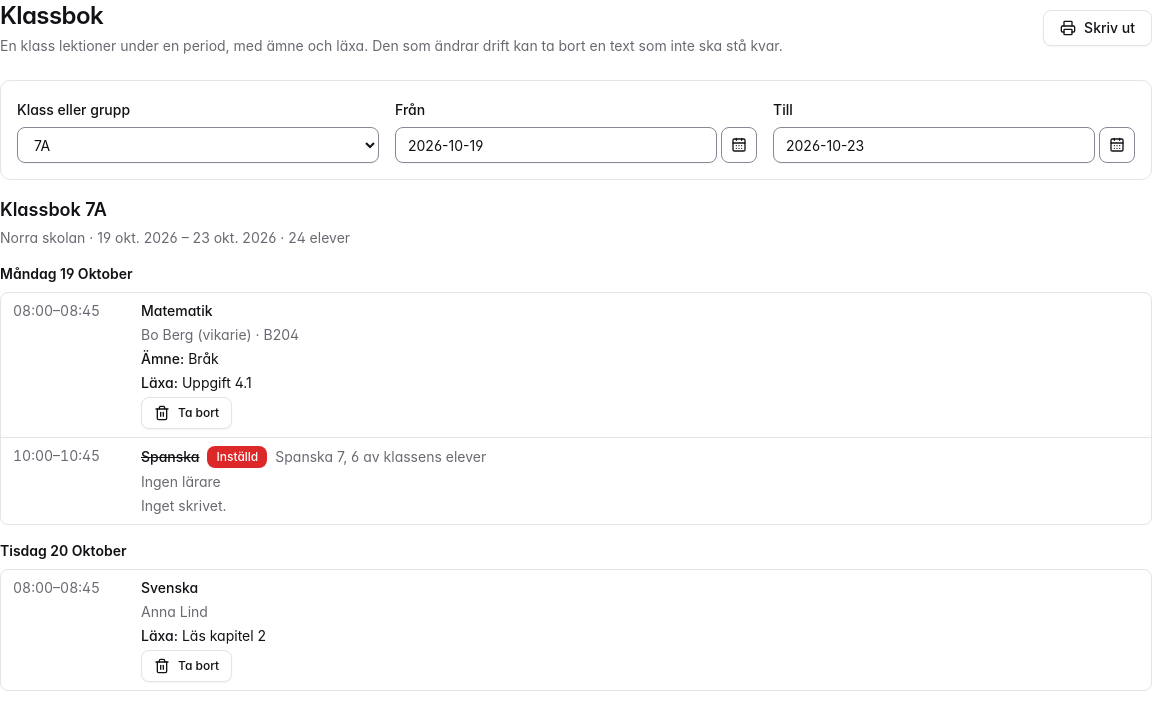
Test: the klassbok › removes nothing the teacher rewrote since, says so and reads the klassbok in again
Click the button with aria-label "Ta bort ämne och läxa för Matematik 08:00": (187, 413) [141,397,232,429]
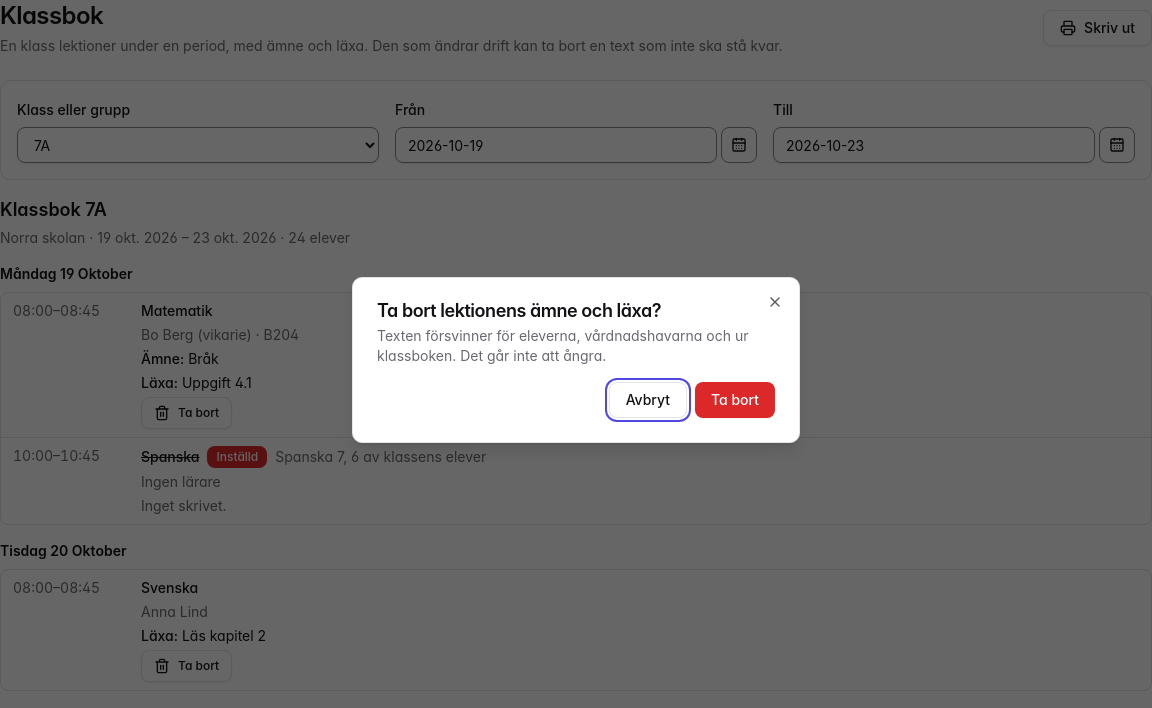
Click the button "Ta bort": (735, 400) [695,382,775,418]
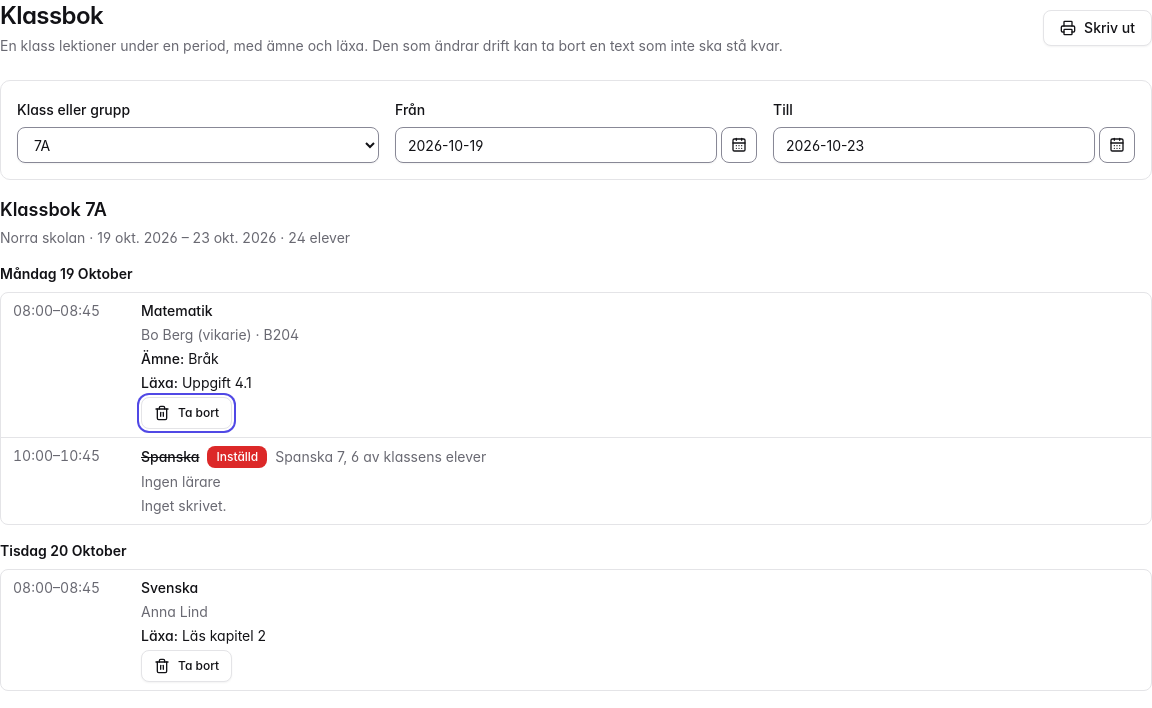
Check: the text "Bråk" is shown, box [188,350,219,367]
Check: the dialog is gone
